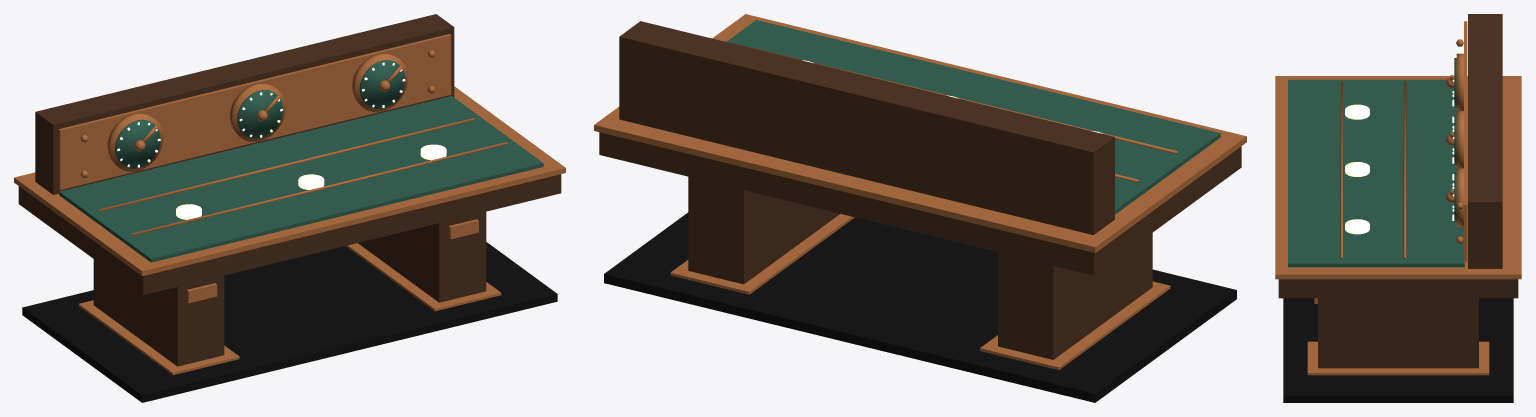
The model's file is vault_table.glb.
3 views of the same model, side by side, from view 1: azimuth 30°, elevation 25°; view 2: azimuth 150°, elevation 25°; view 3: azimuth 270°, elevation 25° (orthographic). The views are drawn at different scales.
Parts seen in each view (by area): view 1: vault_table felt, vault_table wood, vault_table metal, vault_table rubber, vault_table lamp; view 2: vault_table wood, vault_table rubber, vault_table metal, vault_table felt; view 3: vault_table felt, vault_table wood, vault_table metal, vault_table rubber, vault_table lamp.
Boxes of the visible parts, x1,y1,x2,y2 form: vault_table felt: (59,60,543,262); vault_table wood: (18,14,561,366); vault_table metal: (14,34,565,375); vault_table rubber: (22,242,557,402); vault_table lamp: (117,62,446,219); vault_table wood: (599,21,1241,359); vault_table rubber: (604,212,1236,402); vault_table metal: (594,14,1246,370); vault_table felt: (726,20,1220,214); vault_table felt: (1288,58,1464,267); vault_table wood: (1278,14,1518,368); vault_table metal: (1275,21,1521,375); vault_table rubber: (1283,298,1513,402); vault_table lamp: (1345,59,1454,234).
Size of what is drawn, in the model's own units: 2.98 by 1.39 by 1.56.
